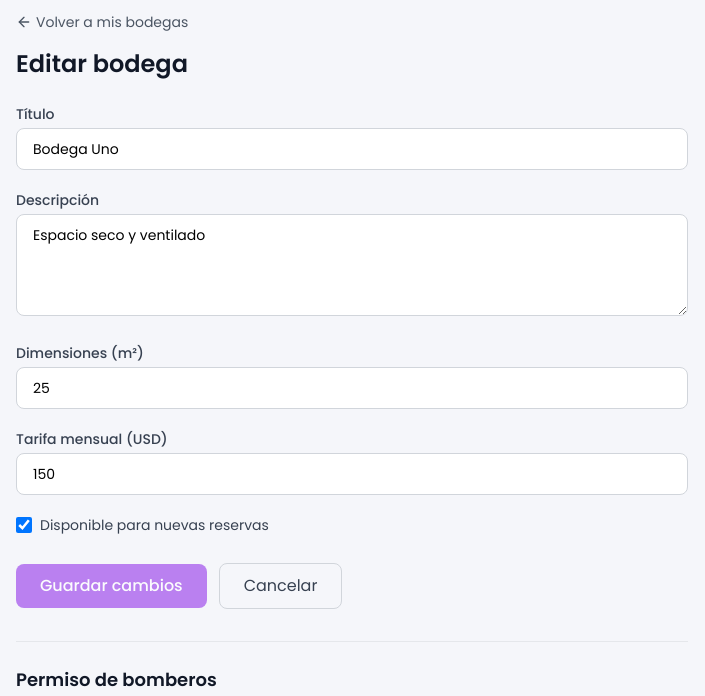
Test case: EditarBodega › renders the informational notice when the response carries one (scenario 3)
The image size is (705, 696).
Replace the text in the field labelled "Título" with "Bodega Con Reservas" at (352, 149), box [16, 128, 688, 170]
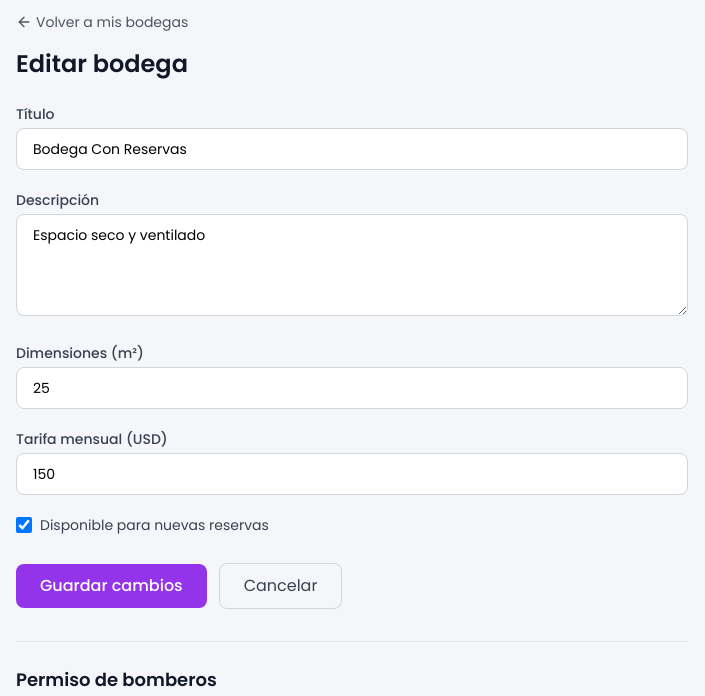
Click the button "Guardar cambios" at (111, 586), box [16, 564, 207, 608]
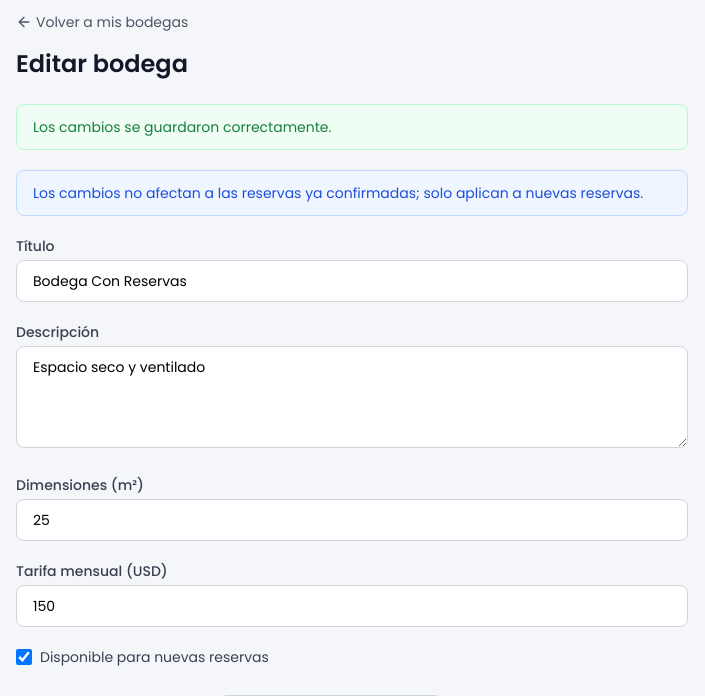
expect the text "Los cambios no afectan a las reservas ya confirmadas; solo aplican a nuevas reservas." is shown: met, box [33, 183, 643, 203]
expect the text "Los cambios se guardaron correctamente." is shown: met, box [16, 104, 688, 150]
